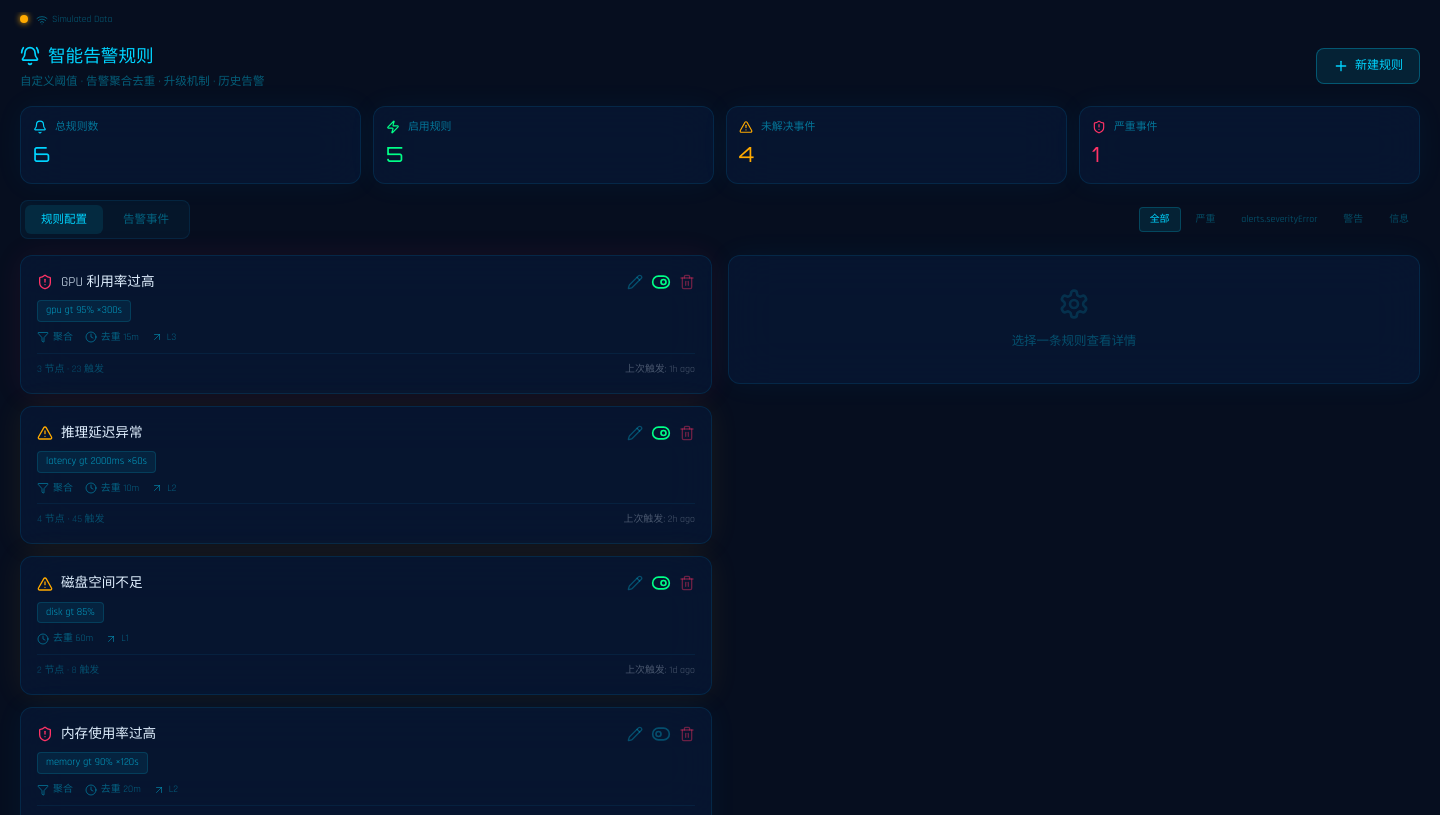
AlertRulesPanel 扩展覆盖 › 切换规则启用/禁用开关
Click the button titled "禁用" in the row of "GPU 利用率过高": (661, 282) [651,272,671,292]
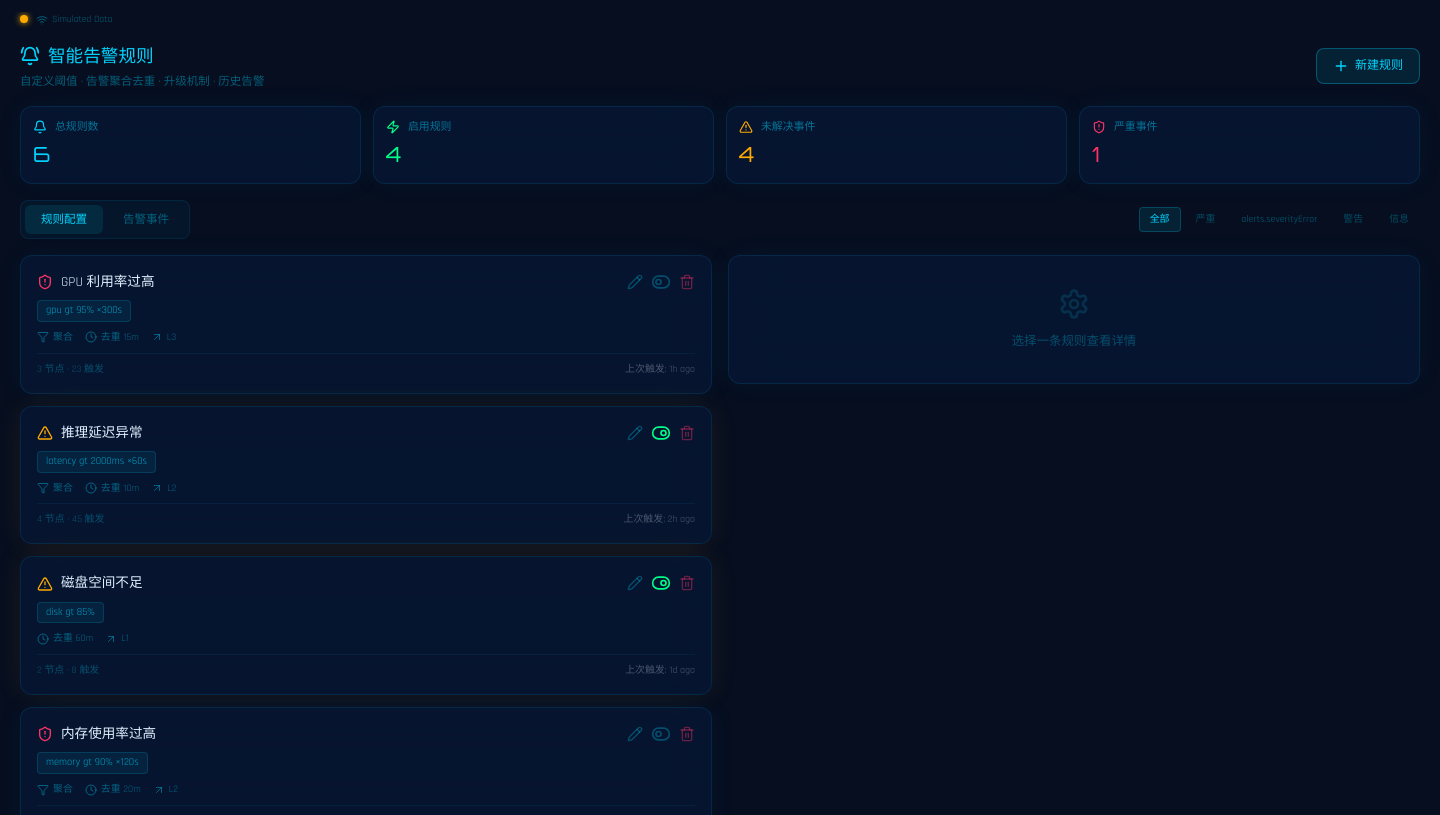
Check: the button titled "启用" in the row of "GPU 利用率过高" is shown, box [651,272,671,292]
